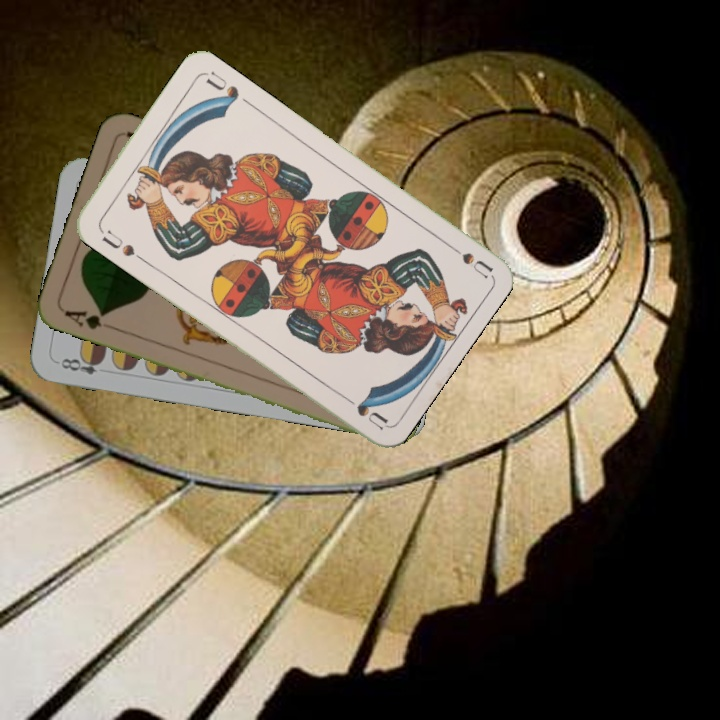E8: (56, 352, 106, 377)
GA: (60, 306, 109, 332)
SU: (440, 237, 494, 280), (97, 226, 138, 259)
